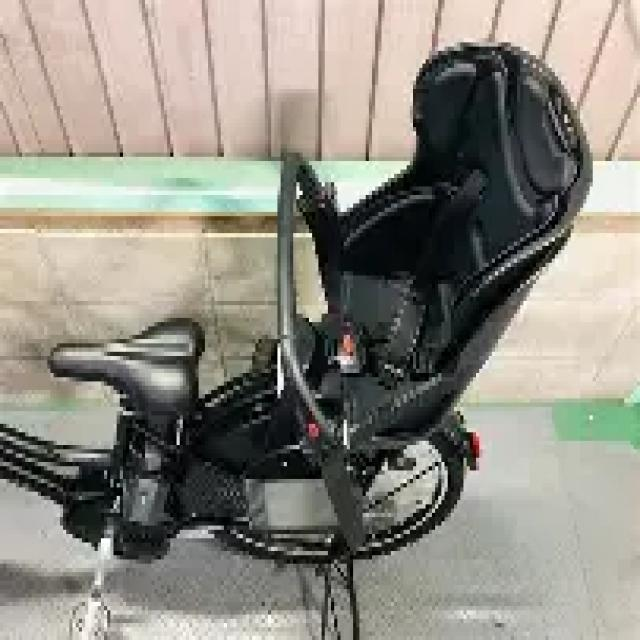childseat: (253, 42, 593, 538)
